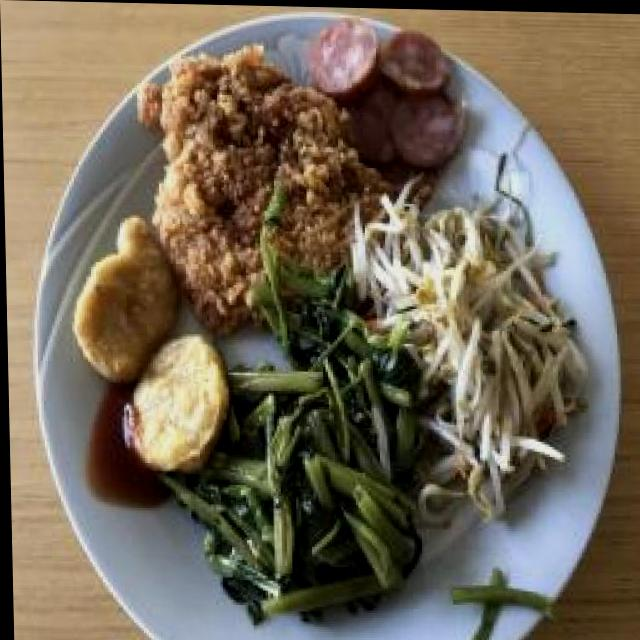chicken_nuggets: (74, 216, 231, 474)
chinese_sausage: (310, 15, 468, 178)
fried_chicken: (138, 42, 391, 337)
mung_bean_sprouts: (388, 200, 579, 498)
water_spinach: (214, 339, 422, 620)
